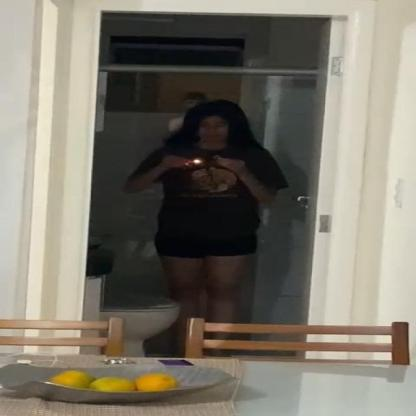fire: (193, 158, 202, 165)
